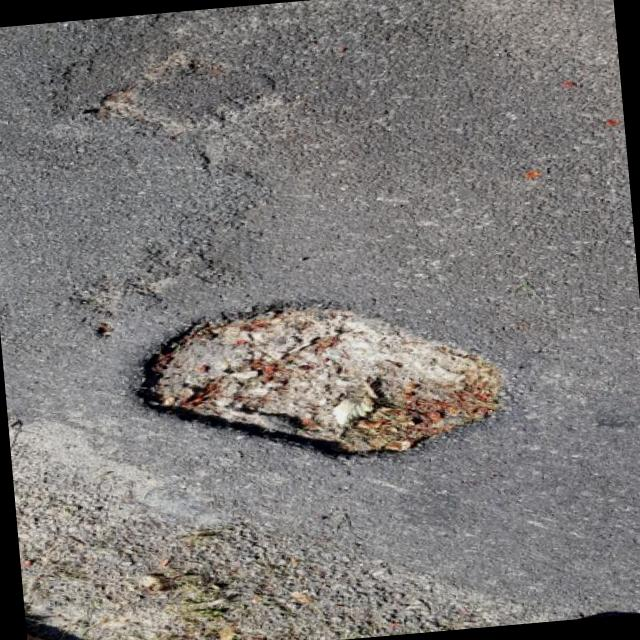pothole: (124, 277, 522, 483)
